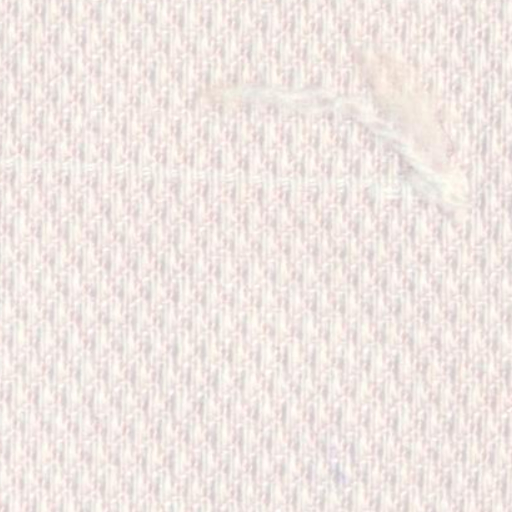DuanSha: (201, 39, 476, 226)
